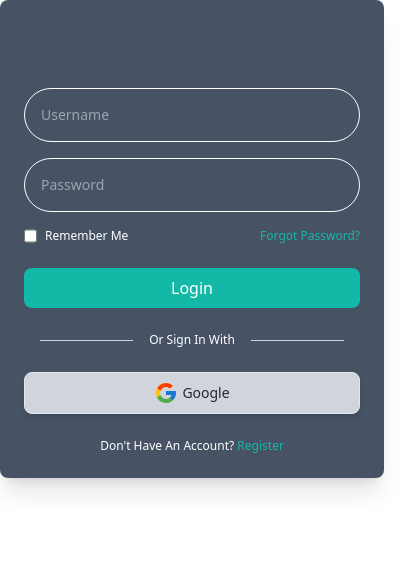
Test case: LoginForm › LoginForm Valid Tests › should show 'Please verify your email.' message when the email is not verified
Simulate entering a valid email and password
Type "john1.doe@example.com" into the field with placeholder "Username" at (192, 115), box [33,97,351,133]
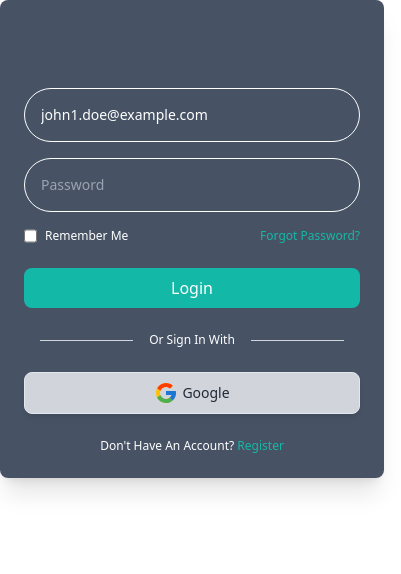
Type "passwordA12hdfsjfdhgfsdjasfd" into the password field with placeholder "Password" at (192, 185), box [33,167,351,203]
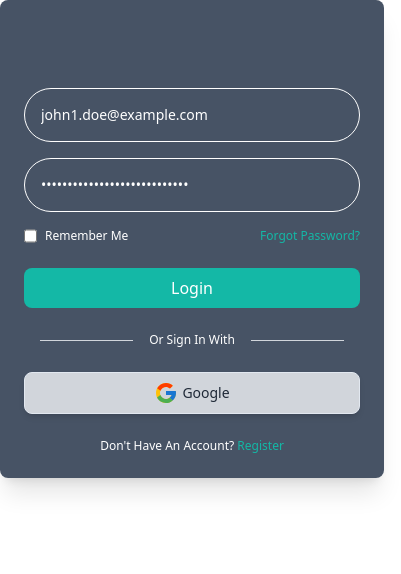
Simulate clicking the login button
Click the button "Login" at (192, 288), box [24,268,360,308]
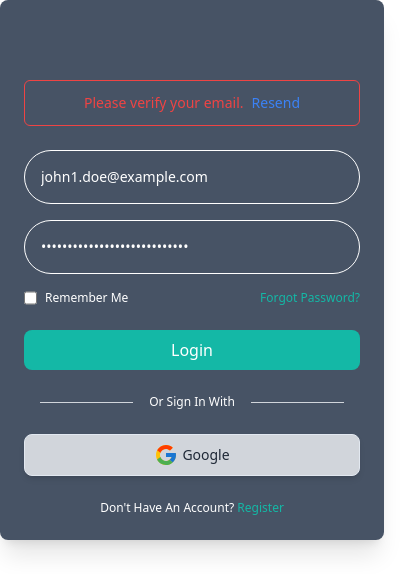
expect the text "Please verify your email." is shown: met, box [84,93,244,113]
